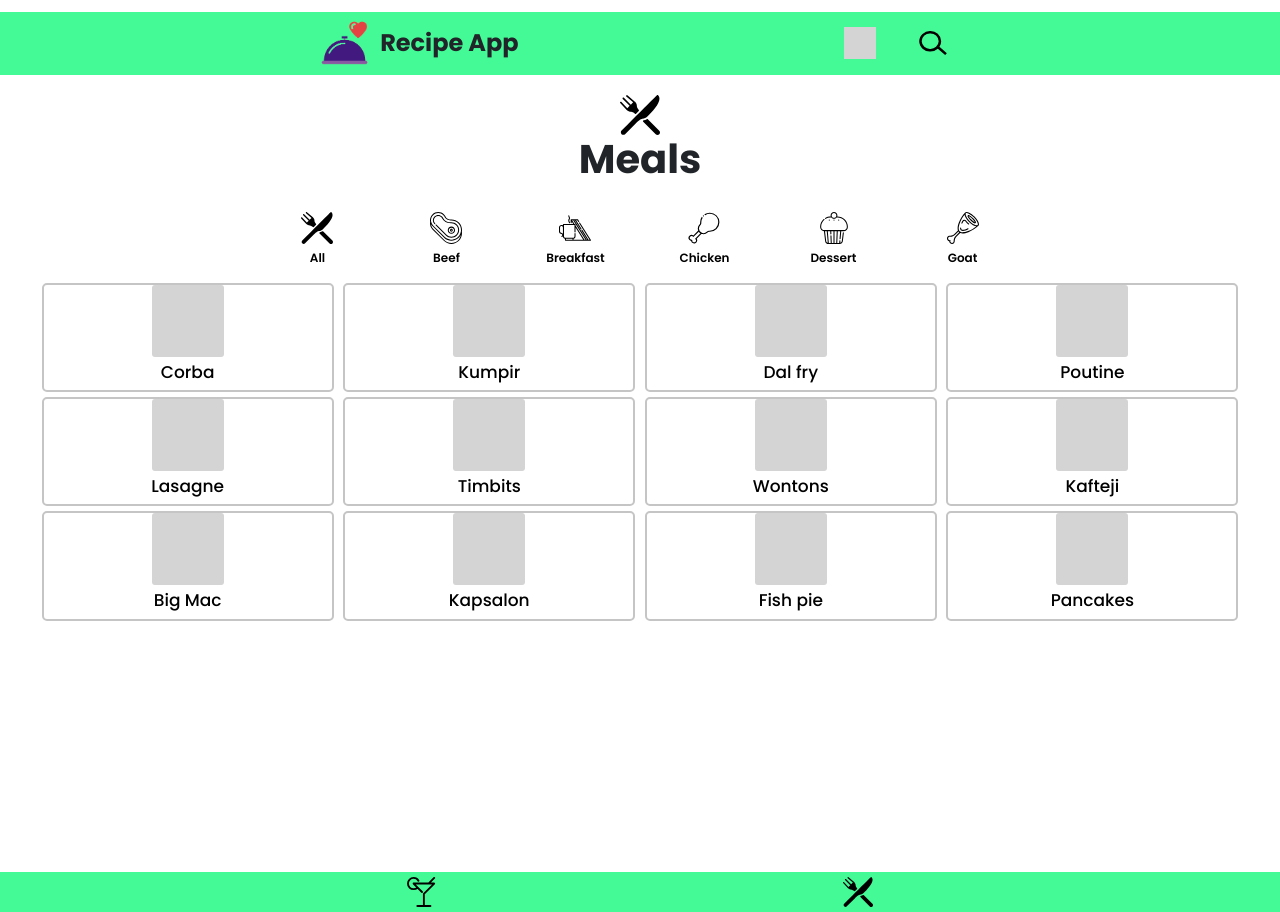
Test: Teste da rota "/meals" › Verifica o filtro pela categoria "Beef"
The width and height of the screenshot is (1280, 912).
Click the button with test id "Beef-category-filter": (446, 239) [385,210,508,268]
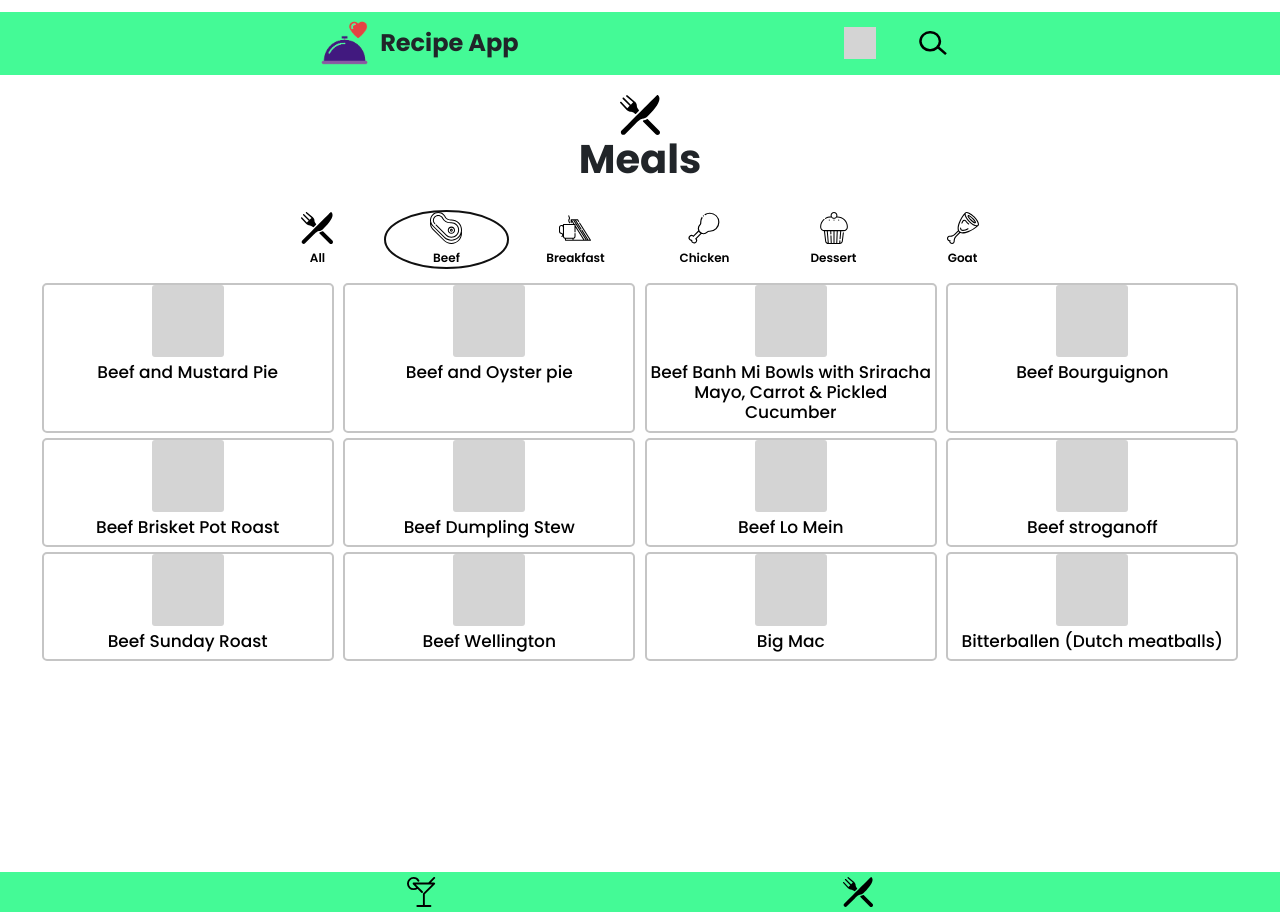
expect the heading with test id "0-card-name" reads "Beef and Mustard Pie": met, box [97,360,278,384]
